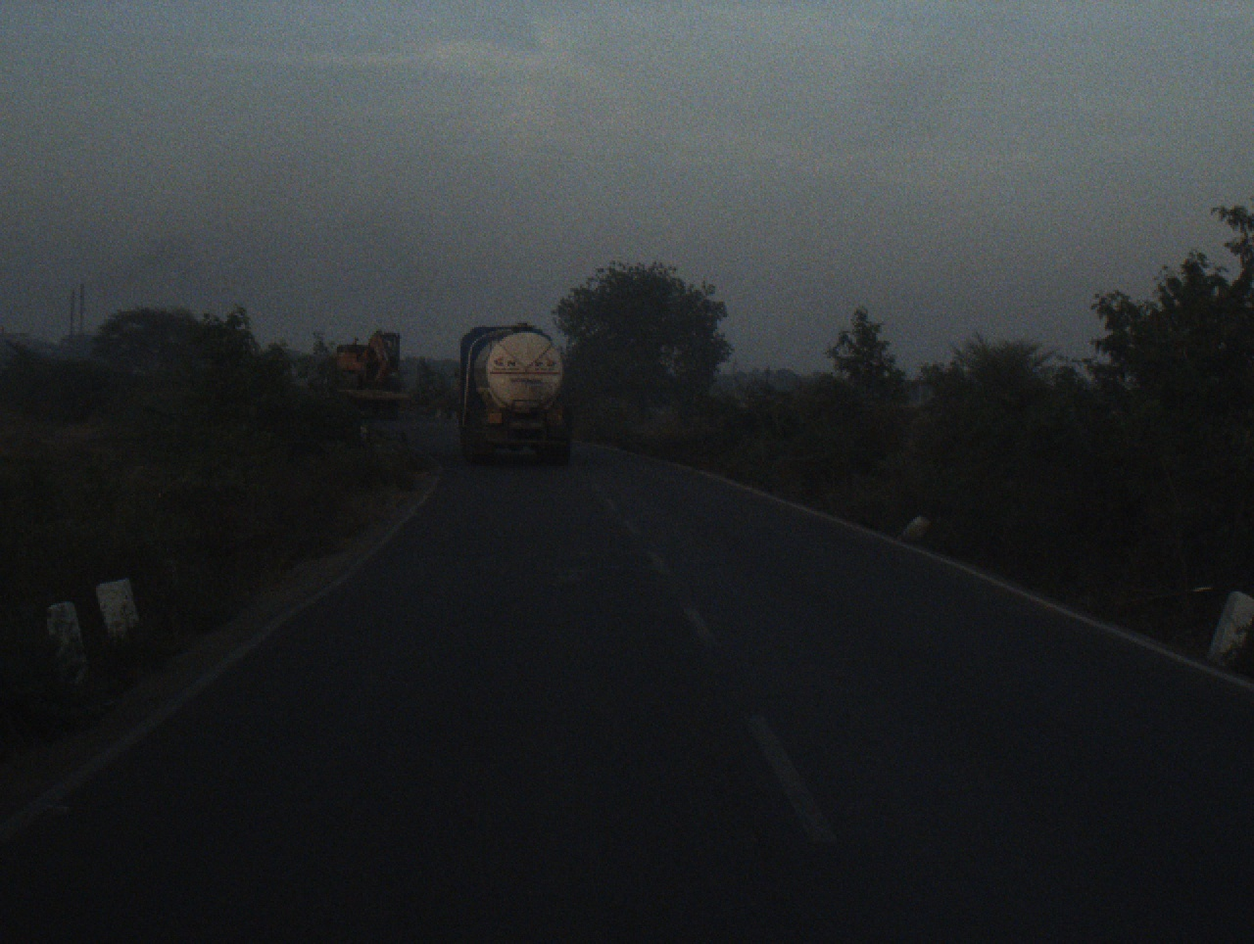truck: (457, 316, 576, 472)
vehicle fallback: (308, 325, 411, 456)
